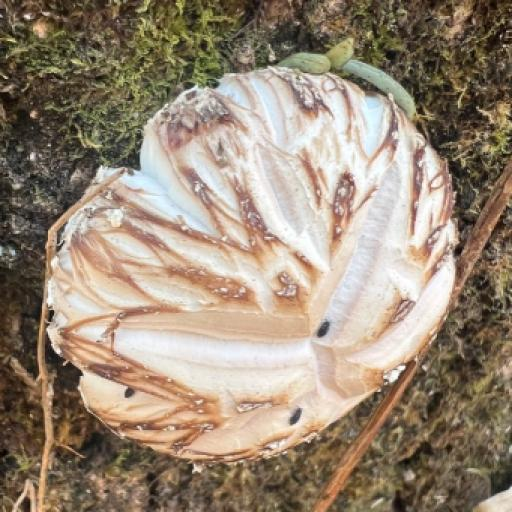Shiitake Mushroom: (0, 8, 512, 512)
